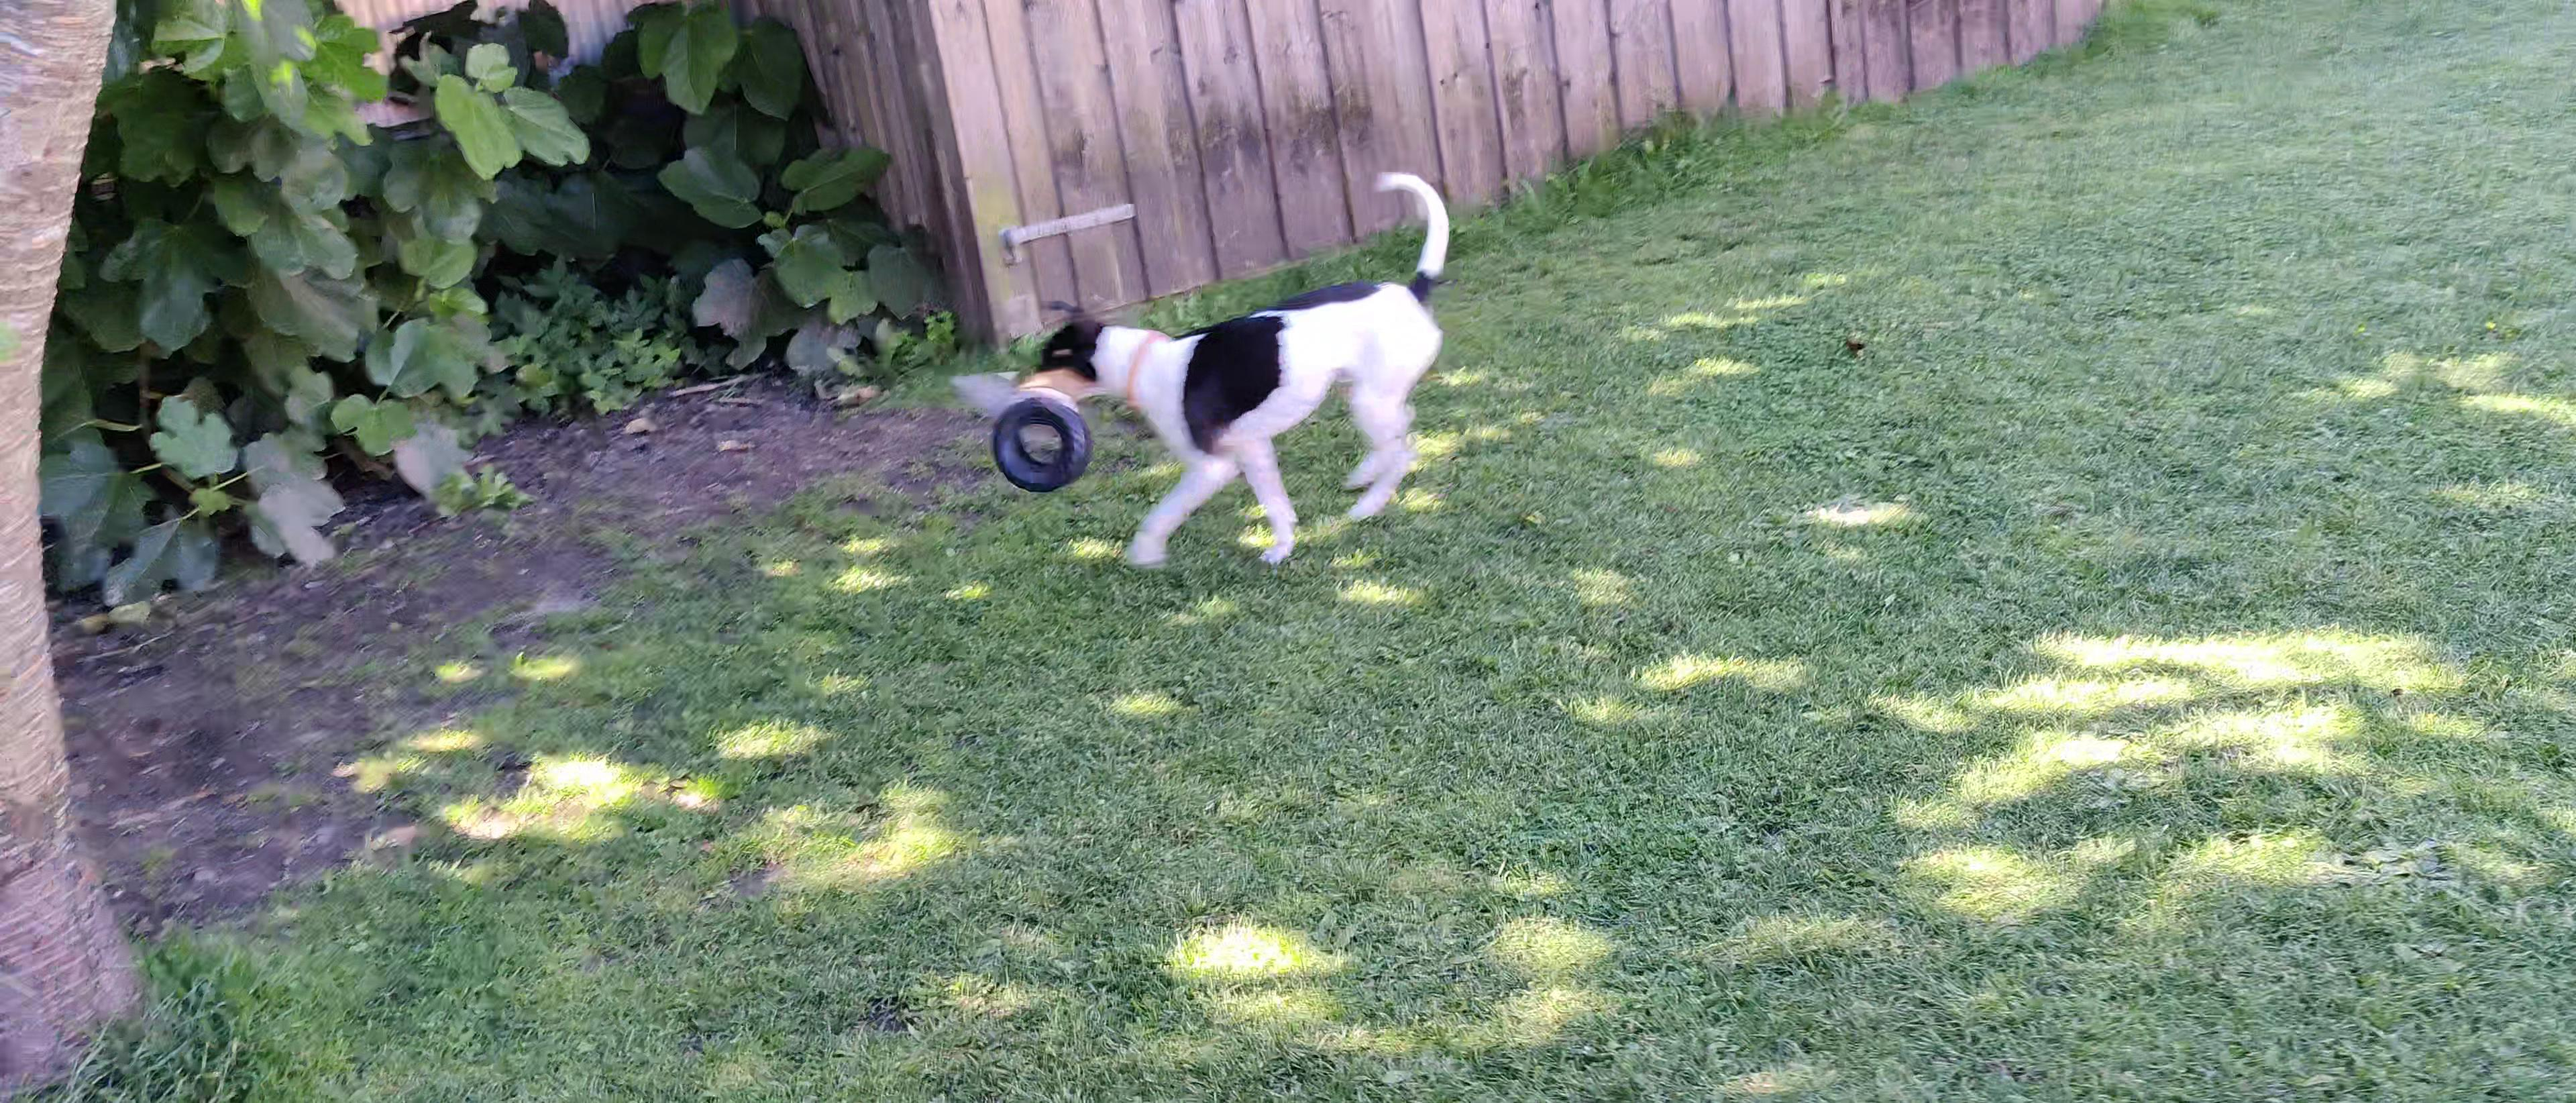Dog: (997, 168, 1460, 577)
